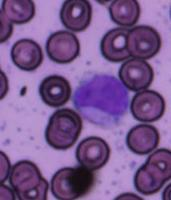L: (71, 70, 131, 127)
